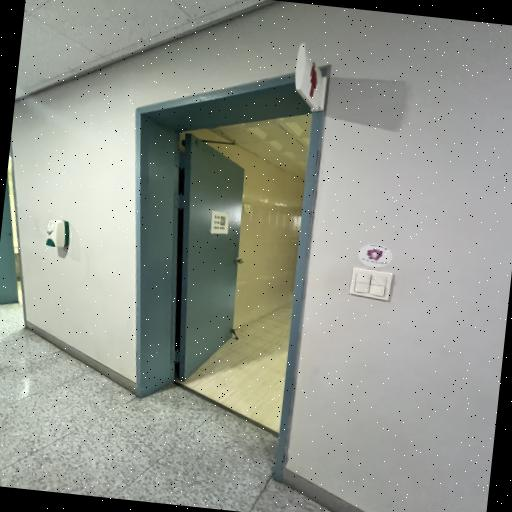door: (136, 64, 329, 482)
